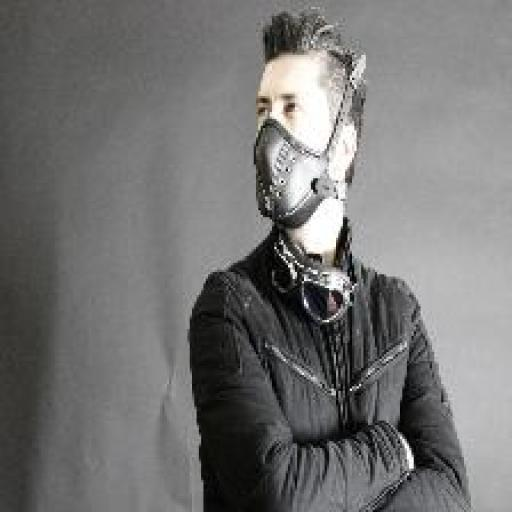mask: (243, 115, 338, 233)
